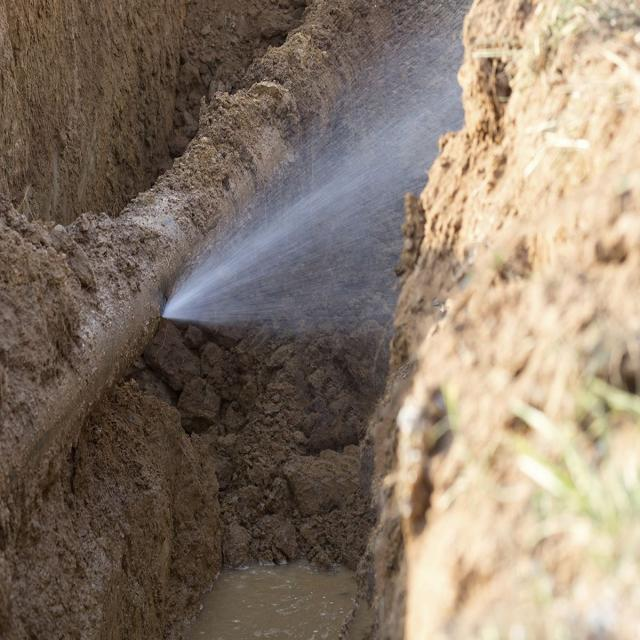leak: (158, 11, 488, 342)
